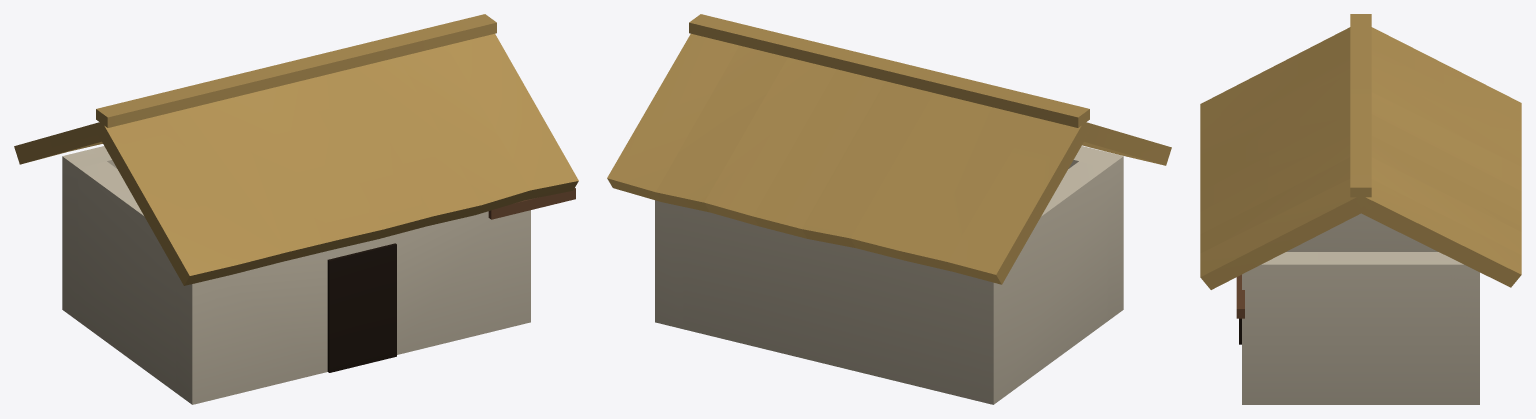
Rendered from wari_room_lod0.glb.
The picture shows the model from 3 angles, left to right: view 1: azimuth 30°, elevation 25°; view 2: azimuth 150°, elevation 25°; view 3: azimuth 270°, elevation 25°; orthographic projection. The views are drawn at different scales.
Parts seen in each view (by area): view 1: GEO-Arch_wari_room_LOD0; view 2: GEO-Arch_wari_room_LOD0; view 3: GEO-Arch_wari_room_LOD0.
Boxes of the visible parts, left/top/right/bottom form: GEO-Arch_wari_room_LOD0: left=14, top=14, right=578, bottom=404; GEO-Arch_wari_room_LOD0: left=607, top=14, right=1171, bottom=404; GEO-Arch_wari_room_LOD0: left=1200, top=14, right=1521, bottom=404.
Bounding box in the file's own units: 7.2 × 4.24 × 5.4.
